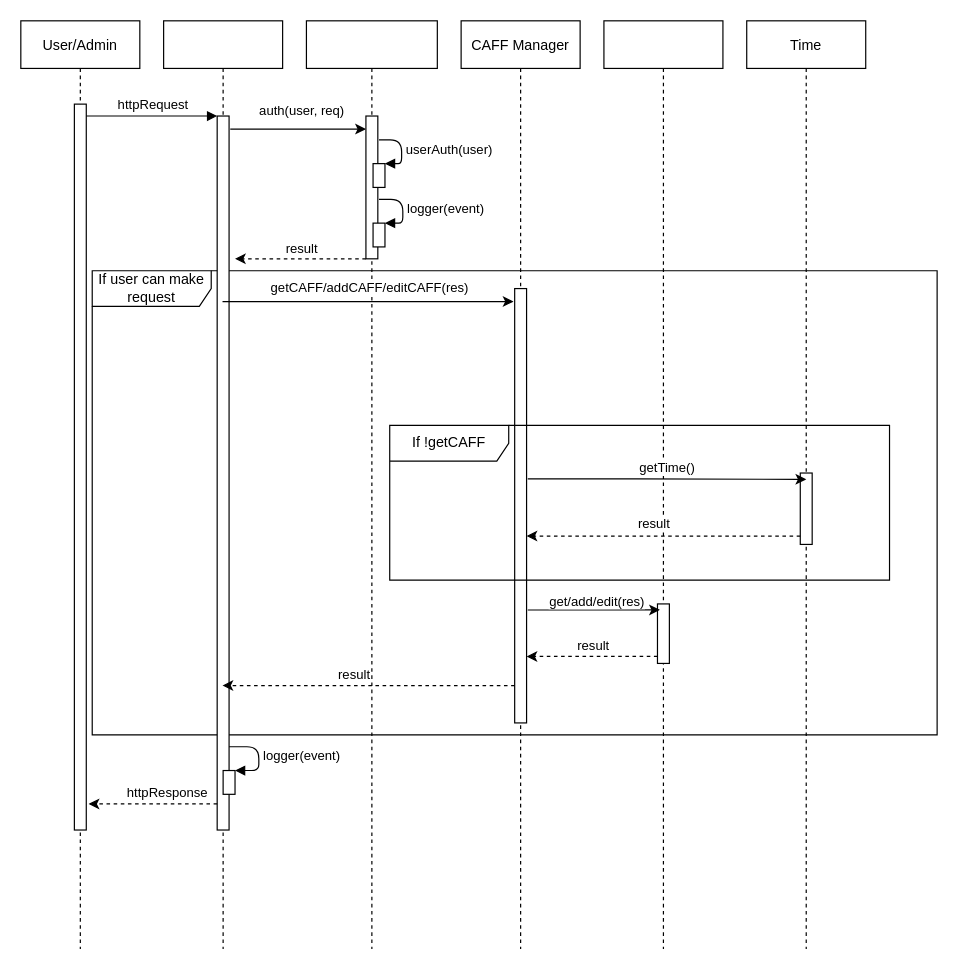
Some shapes in this 958 by 970 pixel diagram are drawn without their labels. Each missing label, with the box of its shape:
Authenticator: (305, 20, 437, 949)
CAFF data: (603, 20, 723, 949)
WebServer Controller: (162, 20, 283, 949)
